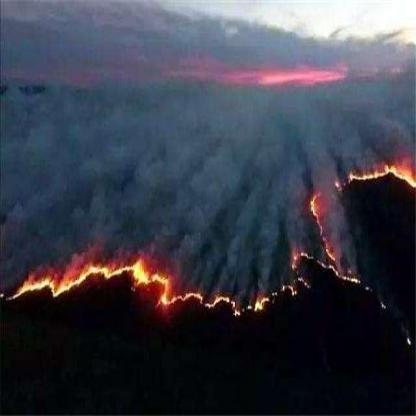other: (6, 253, 294, 315), (294, 145, 414, 285)
smoke: (13, 92, 288, 245), (304, 86, 412, 138)
